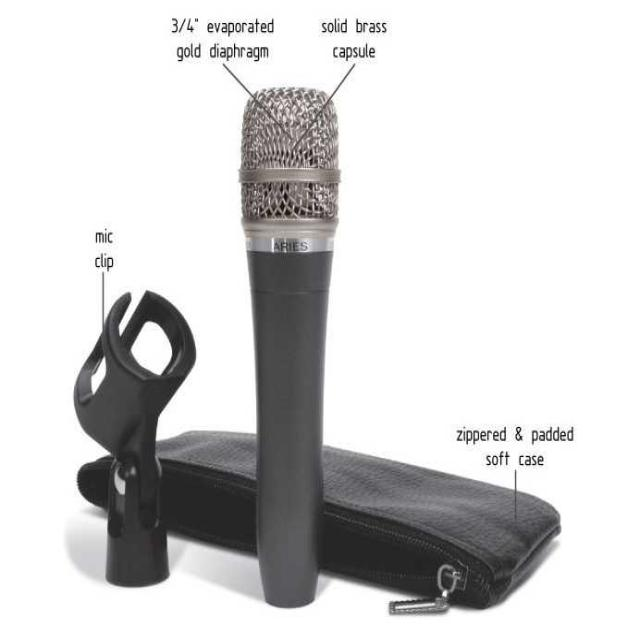microphone: (240, 82, 342, 602)
